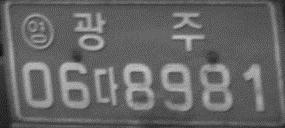0: (21, 61, 53, 109)
1: (237, 62, 271, 112)
6: (57, 61, 92, 110)
8: (197, 62, 233, 112), (122, 62, 156, 112)
9: (159, 62, 194, 112)
광주_D: (72, 12, 206, 52)
다: (92, 67, 120, 106)
영: (20, 12, 54, 50)
